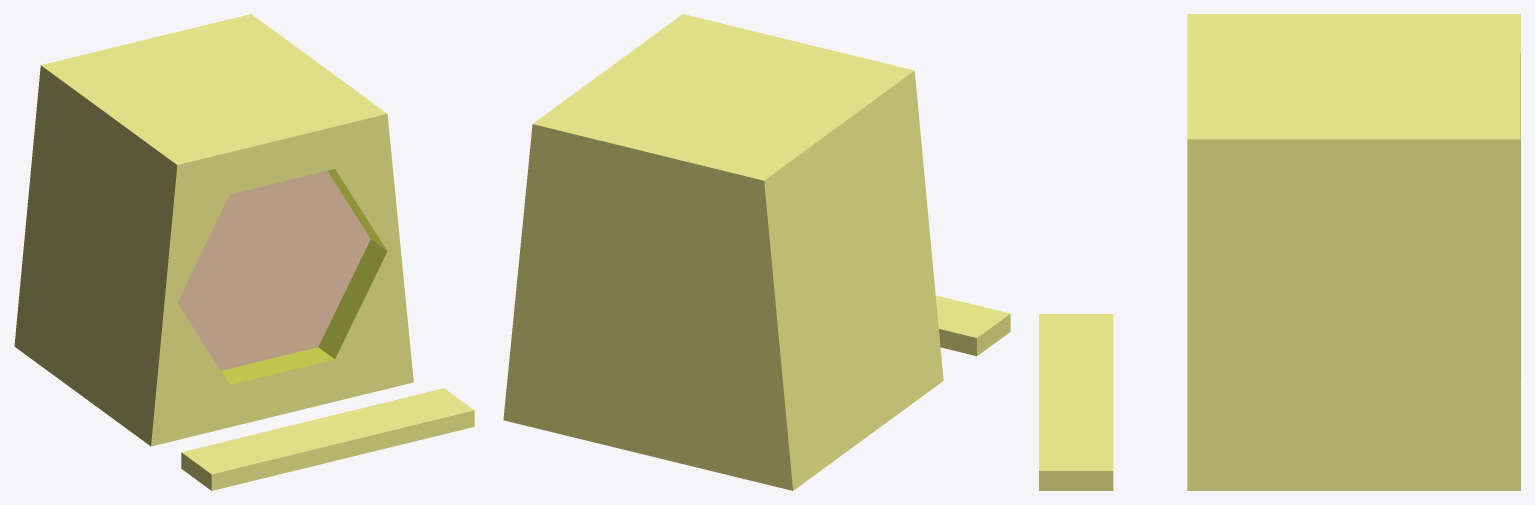
Rendered from computer1.gltf.
The picture shows the model from 3 angles, left to right: view 1: azimuth 30°, elevation 25°; view 2: azimuth 150°, elevation 25°; view 3: azimuth 270°, elevation 25°; orthographic projection. The views are drawn at different scales.
Visible parts, largest first — view 1: Mesh1 Model, Mesh2 Model; view 2: Mesh1 Model, Mesh2 Model; view 3: Mesh1 Model, Mesh2 Model.
Boxes of the visible parts, x1,y1,x2,y2 form: Mesh1 Model: [14, 14, 413, 446]; Mesh2 Model: [181, 388, 474, 490]; Mesh1 Model: [503, 14, 943, 490]; Mesh2 Model: [935, 295, 1010, 356]; Mesh1 Model: [1187, 14, 1520, 490]; Mesh2 Model: [1039, 314, 1113, 490].
Bounding box in the file's own units: 0.5 × 0.5 × 0.65.
